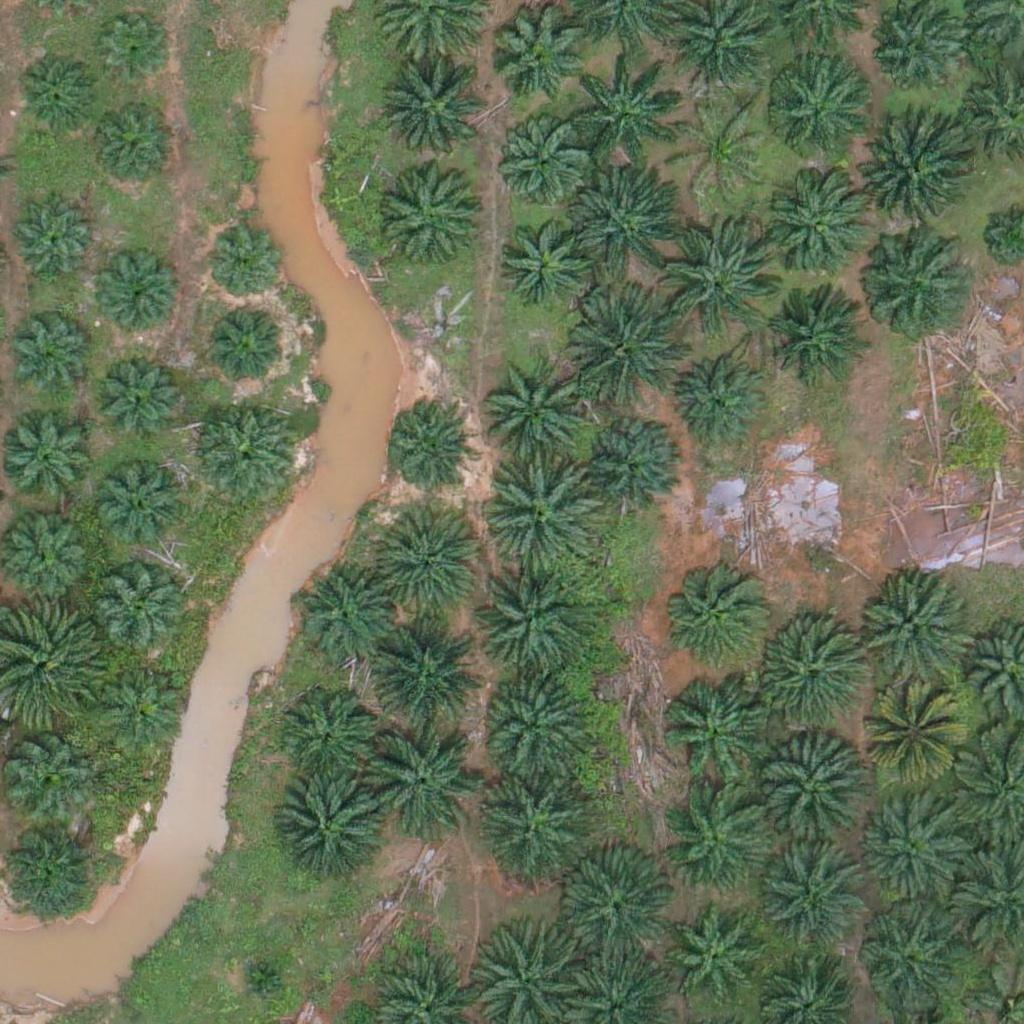Kelapa_Sawit: (482, 664, 595, 778), (570, 292, 683, 406), (473, 569, 586, 683), (371, 505, 484, 619), (757, 737, 870, 850), (659, 679, 772, 792), (270, 776, 383, 889), (857, 117, 970, 230), (571, 166, 684, 279), (662, 784, 774, 898), (765, 167, 877, 281), (660, 556, 772, 670), (370, 613, 482, 727), (380, 56, 492, 170), (563, 859, 675, 972), (474, 767, 586, 880), (362, 724, 474, 837), (856, 575, 968, 688), (746, 619, 858, 732), (859, 233, 971, 346), (663, 222, 775, 335), (568, 53, 680, 166), (484, 346, 596, 459), (488, 460, 600, 573), (855, 796, 955, 897), (857, 908, 957, 1009), (763, 853, 863, 954), (664, 908, 764, 1009), (277, 686, 377, 787), (673, 95, 773, 196), (580, 413, 680, 514), (490, 113, 590, 214), (494, 209, 594, 310), (383, 165, 483, 266), (196, 398, 296, 499), (88, 459, 188, 560), (296, 566, 396, 667), (861, 690, 961, 790), (766, 286, 866, 386), (763, 58, 863, 158), (669, 359, 769, 459), (487, 6, 587, 106), (2, 409, 102, 509), (2, 728, 90, 816), (85, 102, 173, 190), (99, 663, 187, 751), (8, 312, 96, 400), (384, 399, 471, 487), (14, 50, 101, 138), (7, 198, 94, 286), (96, 255, 183, 343), (203, 301, 290, 389), (97, 571, 184, 659), (92, 350, 179, 438), (97, 15, 172, 91), (206, 228, 281, 304), (235, 951, 285, 1002)
